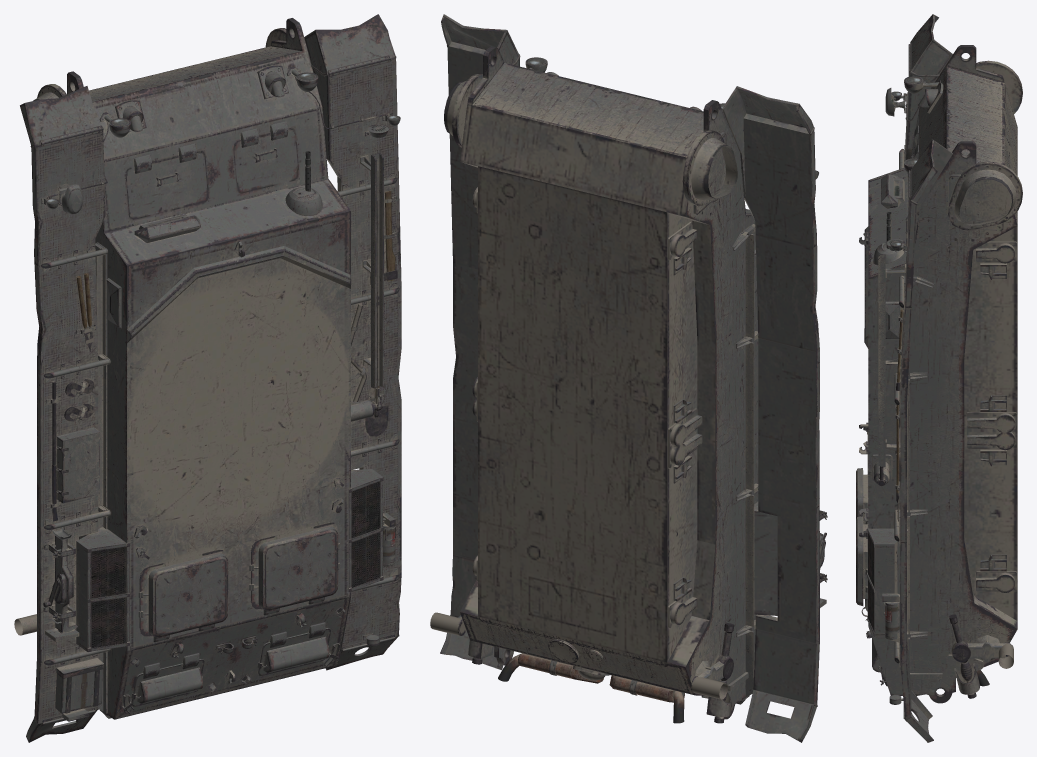
Rendered from Hull.glb.
3 views of the same model, side by side, from view 1: azimuth 30°, elevation 25°; view 2: azimuth 150°, elevation 25°; view 3: azimuth 270°, elevation 25° (orthographic). The views are drawn at different scales.
Visible parts, largest first — view 1: set_0_group_0; view 2: set_0_group_0; view 3: set_0_group_0.
Part boxes in pixels (left/top/right/bottom): set_0_group_0: left=14, top=14, right=401, bottom=742; set_0_group_0: left=430, top=14, right=827, bottom=742; set_0_group_0: left=856, top=14, right=1022, bottom=742.
Size of the model in its own units: 3.09 by 5.22 by 1.37.
1 material, 1 textured.
